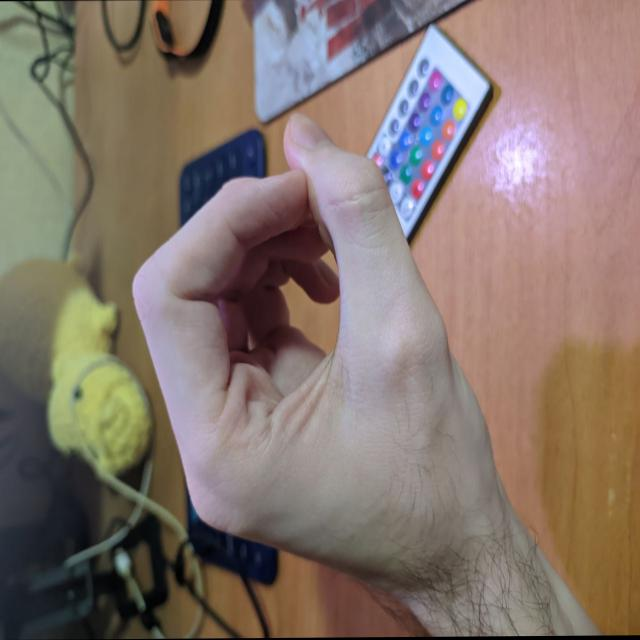e: (113, 100, 450, 566)
